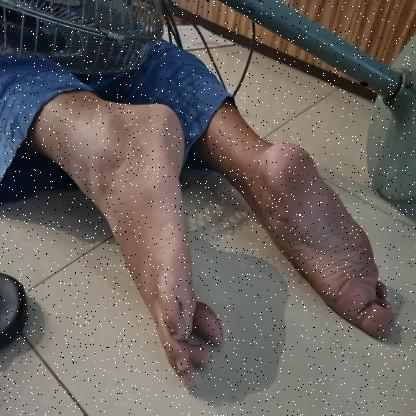leg: (32, 85, 228, 394), (195, 102, 402, 352)
